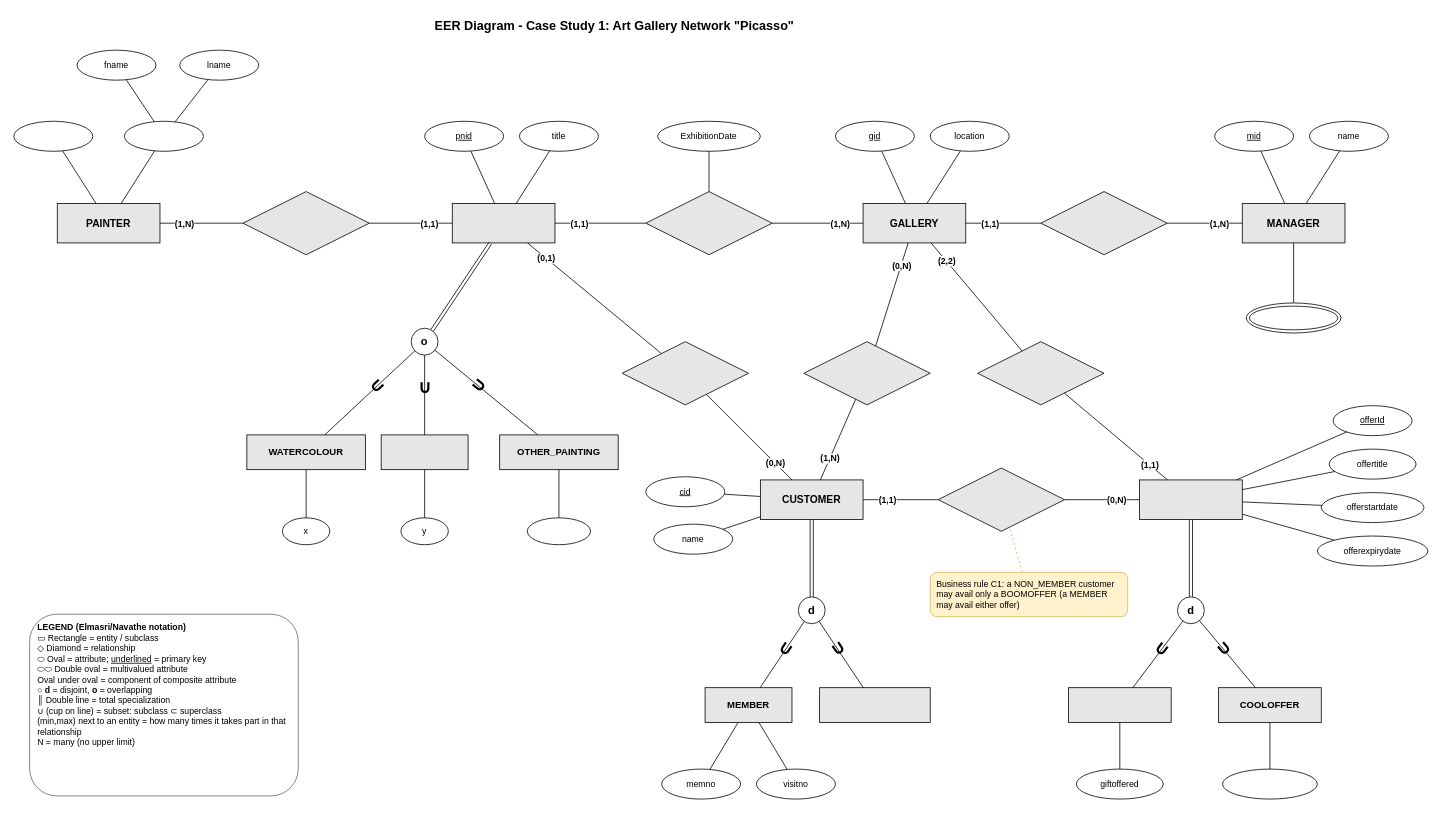
Image size: 1442x813. Some labels were removed from this diagram. The centre of each missing label's shape, as x and y in pixels:
"AVAILS" belongs at pixel 1001 499.
"BOOMOFFER" belongs at pixel 1119 704.
"contactno" belongs at pixel 1293 317.
"EXHIBITED_IN" belongs at pixel 708 223.
"MANAGES" belongs at pixel 1103 223.
"NON_MEMBER" belongs at pixel 874 704.
"OFFER" belongs at pixel 1190 499.
"offerdiscount" belongs at pixel 1269 783.
"OFFERS" belongs at pixel 1040 373.
"OILS" belongs at pixel 424 452.
"other" belongs at pixel 559 531.
"PAINTING" belongs at pixel 503 223.
"PAINTS" belongs at pixel 305 223.
"pid" belongs at pixel 53 135.
"pname" belongs at pixel 163 135.
"PURCHASES" belongs at pixel 685 373.
"VISITS" belongs at pixel 866 373.
